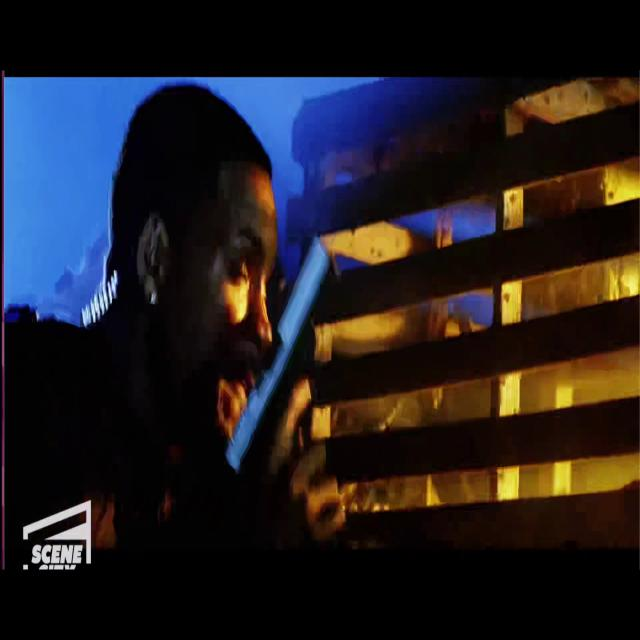weapons: (215, 218, 350, 536)
